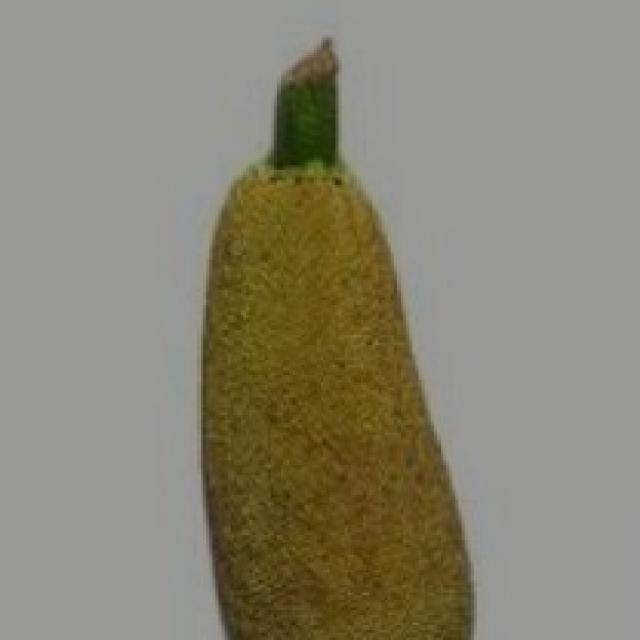Fruit: (160, 230, 508, 640)
